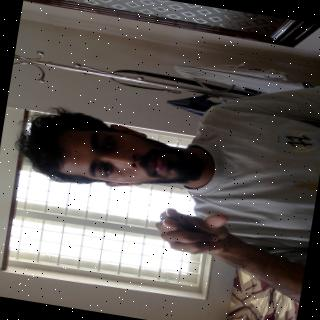No: (131, 182, 271, 276)
